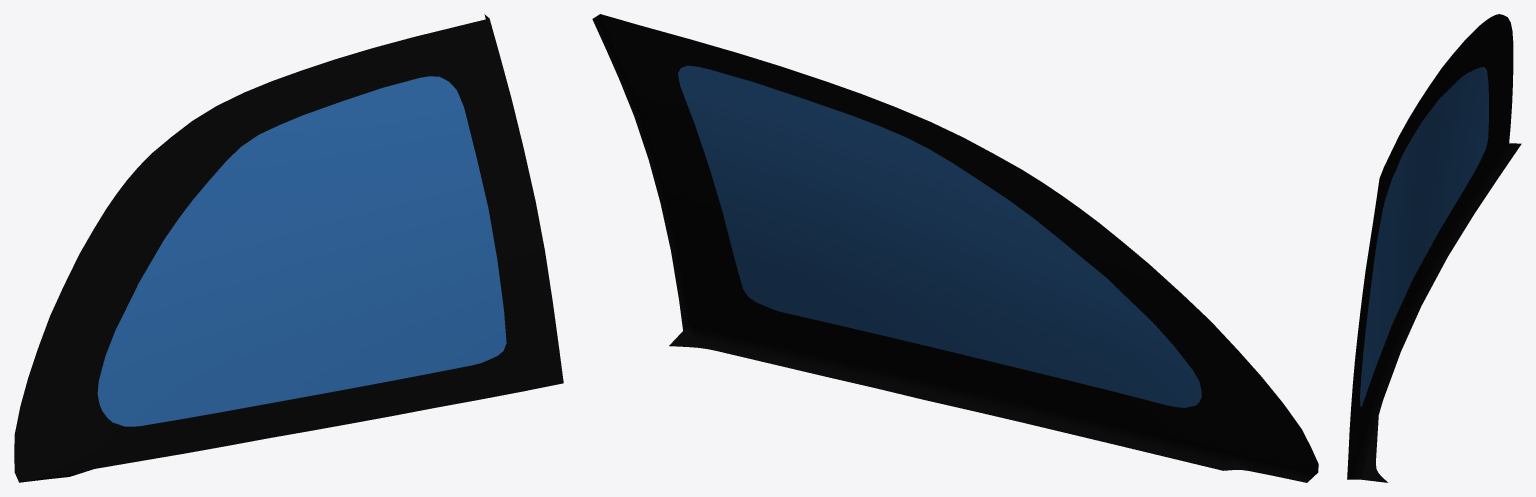
3 views of the same model, side by side, from view 1: azimuth 30°, elevation 25°; view 2: azimuth 150°, elevation 25°; view 3: azimuth 270°, elevation 25° (orthographic). The views are drawn at different scales.
Visible parts, largest first — view 1: N664_9A_40SG_R_N664_9A_40SG_R_1_DTaSI, N664_9A_40SG_R_2_DTaSI_N664_9A_40SG_R; view 2: N664_9A_40SG_R_N664_9A_40SG_R_1_DTaSI, N664_9A_40SG_R_2_DTaSI_N664_9A_40SG_R; view 3: N664_9A_40SG_R_2_DTaSI_N664_9A_40SG_R, N664_9A_40SG_R_N664_9A_40SG_R_1_DTaSI.
Part boxes in pixels (x1,y1,x2,y2): N664_9A_40SG_R_N664_9A_40SG_R_1_DTaSI: (97,76,506,426); N664_9A_40SG_R_2_DTaSI_N664_9A_40SG_R: (14,14,563,482); N664_9A_40SG_R_N664_9A_40SG_R_1_DTaSI: (678,65,1201,407); N664_9A_40SG_R_2_DTaSI_N664_9A_40SG_R: (592,14,1318,482); N664_9A_40SG_R_2_DTaSI_N664_9A_40SG_R: (1347,14,1521,482); N664_9A_40SG_R_N664_9A_40SG_R_1_DTaSI: (1360,67,1488,406).
Size of the model in its own units: 85.4 by 47.97 by 22.34.
